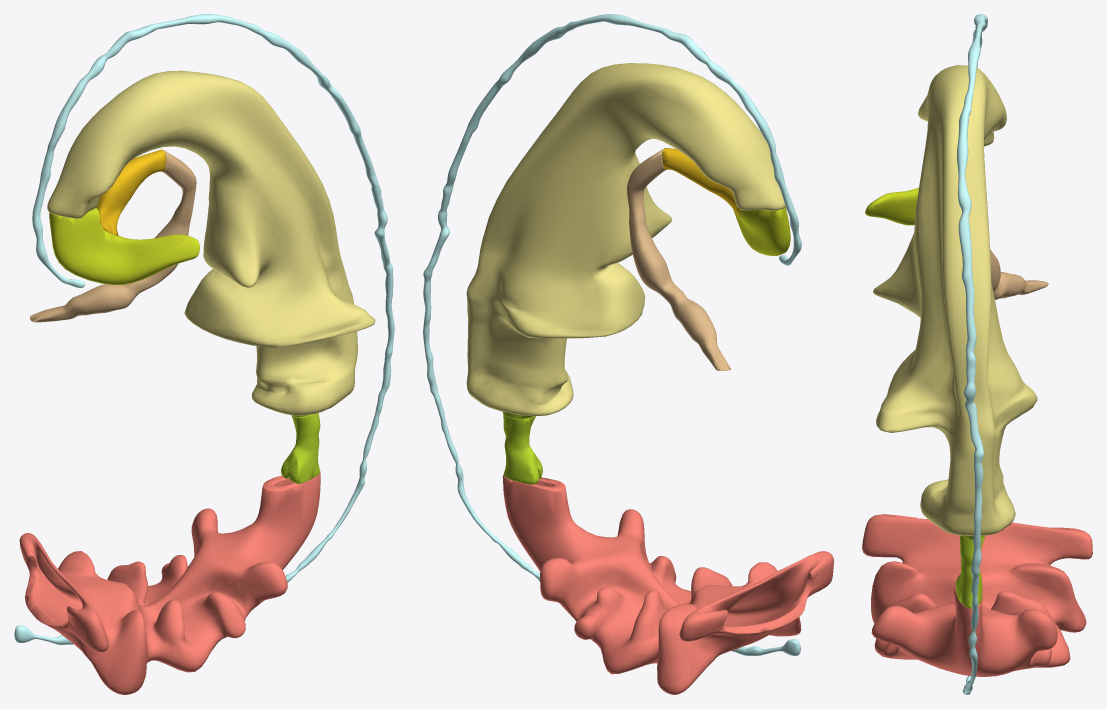
The model's file is Puzzel_structure_EditedInMaya.fbx.
3 renders of one model, left to right at view 1: azimuth 30°, elevation 25°; view 2: azimuth 150°, elevation 25°; view 3: azimuth 270°, elevation 25°, orthographic. The views are drawn at different scales.
Visible parts, largest first — view 1: Mesentery, Oral_cavity_and_pharynx, Notochord, Cloaca, Allantois, Urogenital_sinus, Oesophagus; view 2: Mesentery, Oral_cavity_and_pharynx, Notochord, Allantois, Cloaca, Oesophagus, Urogenital_sinus; view 3: Mesentery, Oral_cavity_and_pharynx, Notochord, Cloaca, Allantois, Oesophagus.
Part boxes in pixels (box(x1,y1,x2,y2)): Mesentery: box(47, 70, 375, 415); Oral_cavity_and_pharynx: box(19, 473, 320, 694); Notochord: box(14, 14, 394, 644); Cloaca: box(49, 207, 199, 284); Allantois: box(30, 150, 196, 322); Urogenital_sinus: box(96, 149, 166, 235); Oesophagus: box(281, 413, 320, 483); Mesentery: box(466, 63, 785, 416); Oral_cavity_and_pharynx: box(502, 475, 833, 694); Notochord: box(423, 14, 801, 655); Allantois: box(627, 148, 731, 370); Cloaca: box(733, 206, 790, 255); Oesophagus: box(503, 413, 542, 484); Urogenital_sinus: box(662, 148, 740, 216); Mesentery: box(873, 65, 1037, 535); Oral_cavity_and_pharynx: box(862, 514, 1092, 676); Notochord: box(956, 14, 987, 694); Cloaca: box(865, 187, 918, 225); Allantois: box(990, 249, 1048, 299); Oesophagus: box(955, 535, 985, 608).
Bounding box in the file's own units: 39.58 × 62.21 × 20.26.
